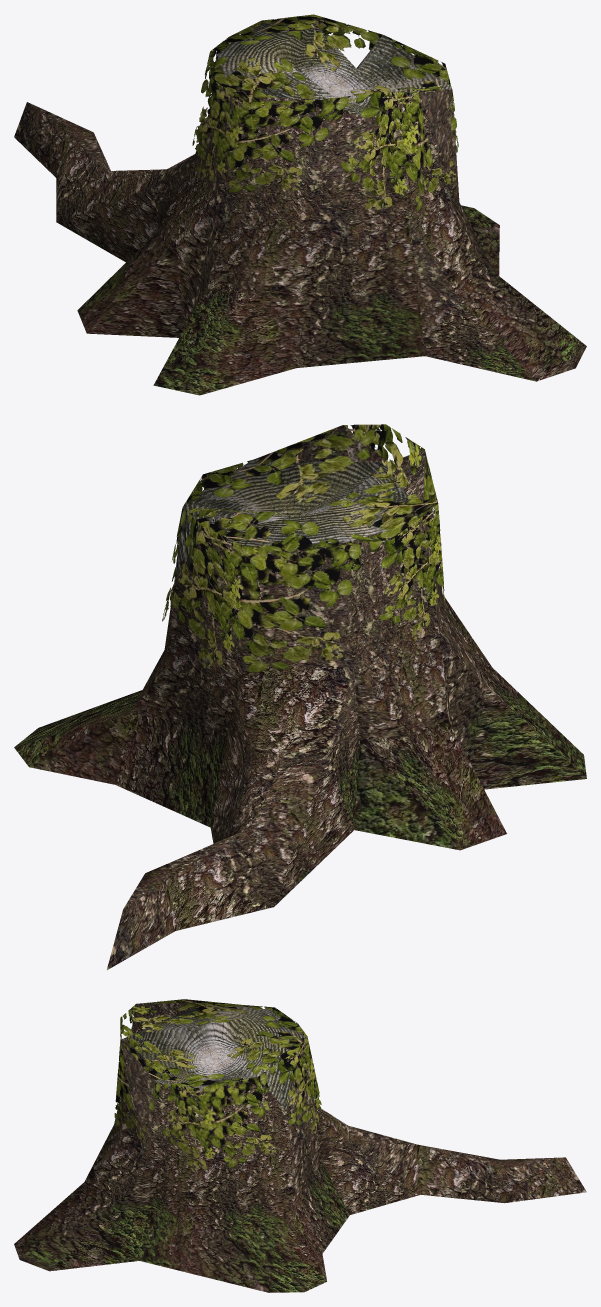
The model's file is NW_NATURE_BAUMSTUMPF_02_154P.glb.
The picture shows the model from 3 angles, top to bottom: view 1: azimuth 30°, elevation 25°; view 2: azimuth 150°, elevation 25°; view 3: azimuth 270°, elevation 25°; orthographic projection. The views are drawn at different scales.
Visible parts, largest first — view 1: Mesh; view 2: Mesh; view 3: Mesh.
Part boxes in pixels (x1,y1,x2,y2): Mesh: [14, 14, 586, 395]; Mesh: [14, 424, 586, 969]; Mesh: [14, 999, 586, 1292].
Size of the model in its own units: 2.7 by 1.58 by 4.21.
3 materials, 3 textured.
